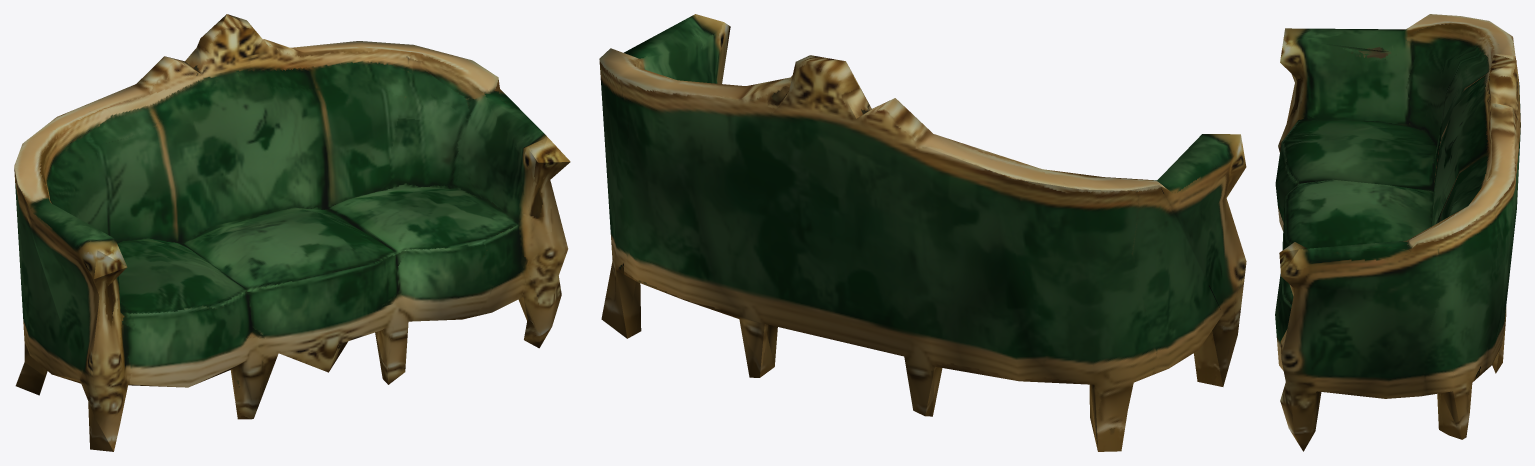
The model's file is emerald-velvet-sofa.glb.
The picture shows the model from 3 angles, left to right: view 1: azimuth 30°, elevation 25°; view 2: azimuth 150°, elevation 25°; view 3: azimuth 270°, elevation 25°; orthographic projection. The views are drawn at different scales.
Visible parts, largest first — view 1: geometry_0.001; view 2: geometry_0.001; view 3: geometry_0.001.
Part boxes in pixels (left/top/right/bottom): geometry_0.001: left=14, top=14, right=570, bottom=451; geometry_0.001: left=599, top=14, right=1246, bottom=451; geometry_0.001: left=1275, top=14, right=1520, bottom=451.
Size of the model in its own units: 0.9912 by 0.6025 by 0.4546.
Materials: 1 (1 with a texture image).
